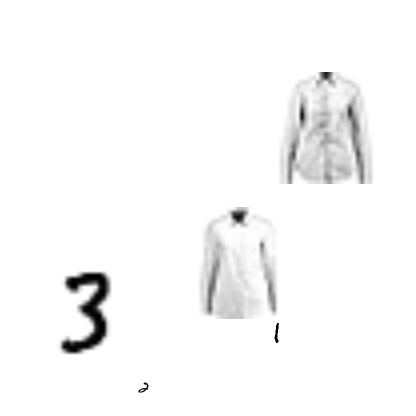1: (262, 319, 290, 347)
2: (137, 381, 151, 395)
3: (30, 253, 142, 365)
Shirt: (268, 72, 380, 184), (180, 207, 292, 319)
